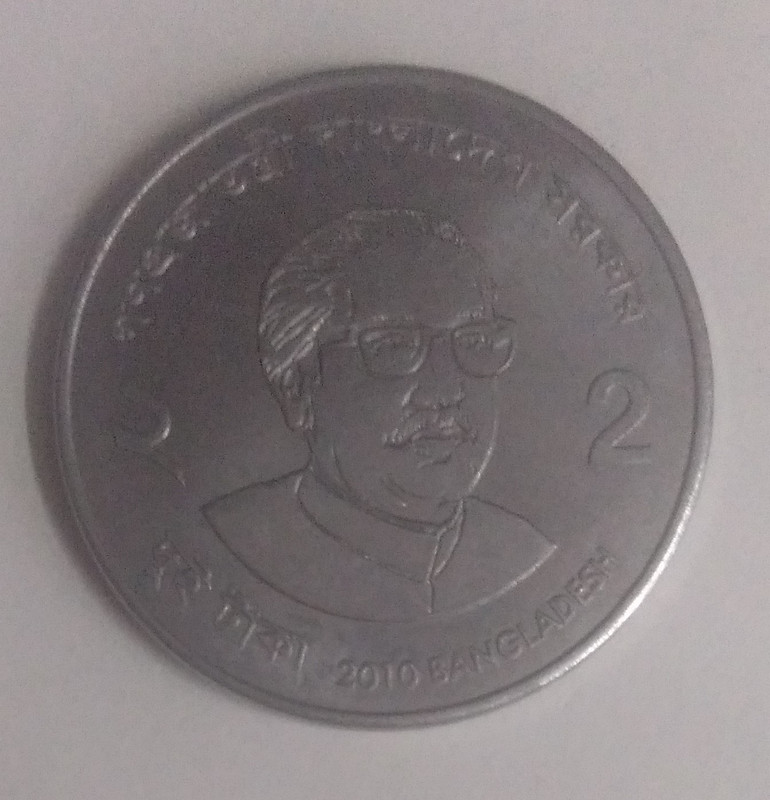5 taka coin: (52, 65, 712, 725)
